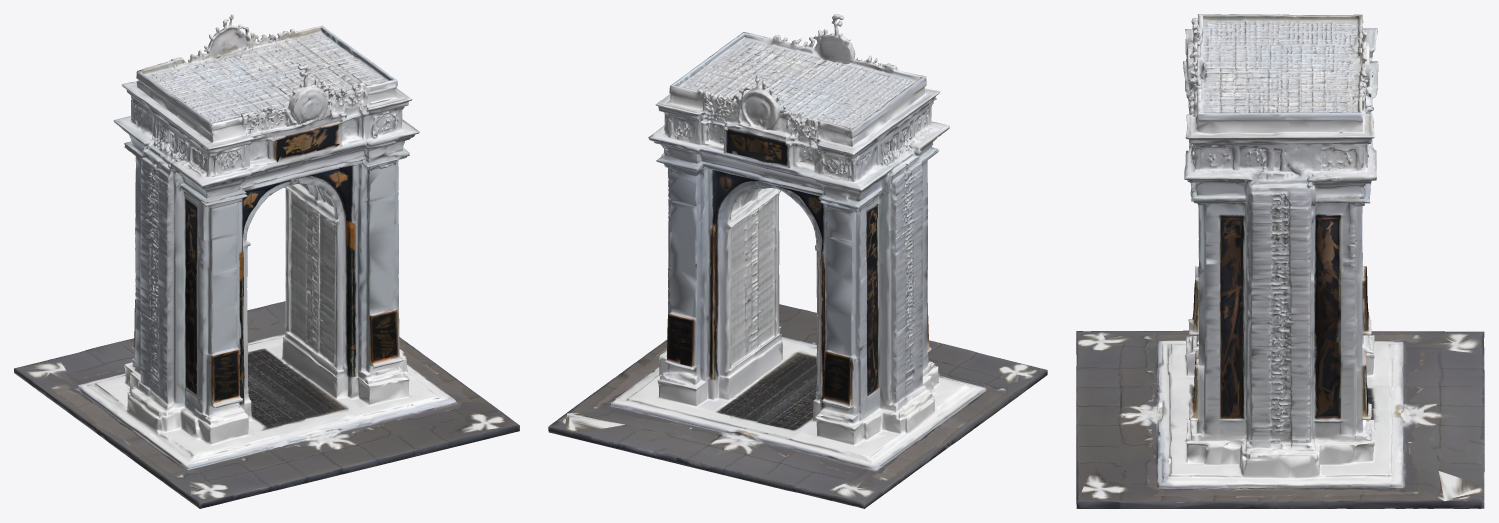
The model's file is Subject_A_commemorat.glb.
3 renders of one model, left to right at view 1: azimuth 30°, elevation 25°; view 2: azimuth 150°, elevation 25°; view 3: azimuth 270°, elevation 25°, orthographic. The views are drawn at different scales.
Parts seen in each view (by area): view 1: Subject_A_commemorat; view 2: Subject_A_commemorat; view 3: Subject_A_commemorat.
Boxes of the visible parts, x1,y1,x2,y2 form: Subject_A_commemorat: (14, 14, 519, 508); Subject_A_commemorat: (548, 14, 1047, 508); Subject_A_commemorat: (1076, 14, 1484, 508).
Bounding box in the file's own units: 1.82 × 1.99 × 1.83.
1 material, 1 textured.
